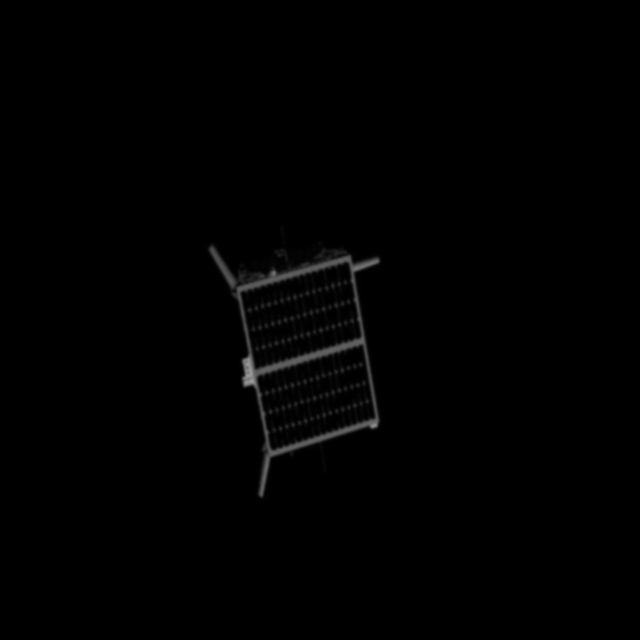satellite: (209, 211, 420, 504)
